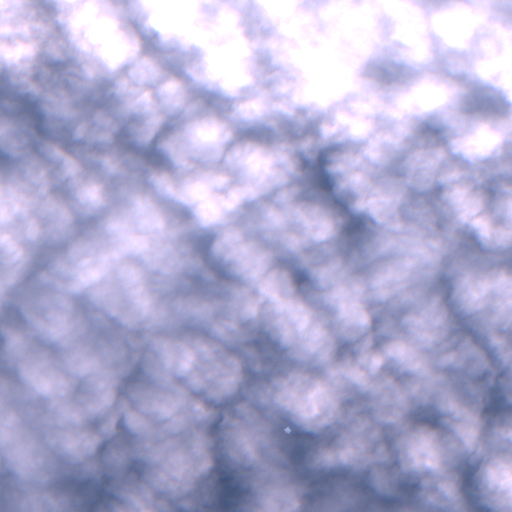Iceberg: (284, 426, 290, 433)
